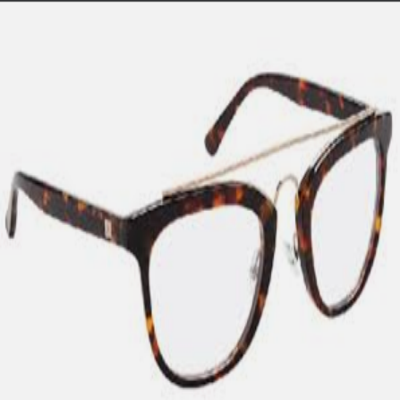glasses: (5, 70, 393, 390)
